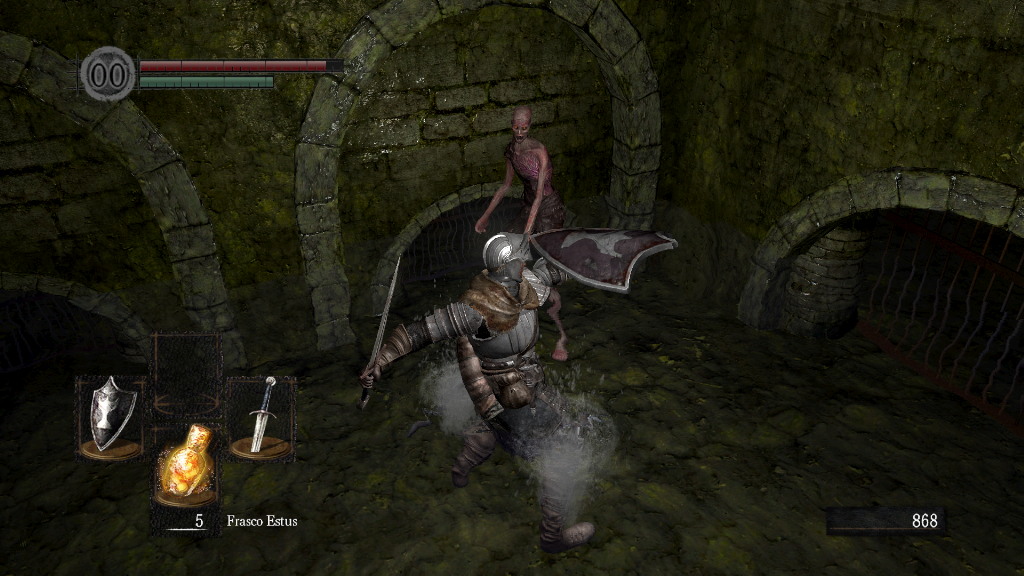health: (138, 58, 343, 71)
hollow: (471, 106, 568, 360)
humanity: (80, 45, 136, 102)
player: (353, 229, 684, 552)
souls: (825, 506, 945, 536)
stamina: (138, 74, 274, 88)
